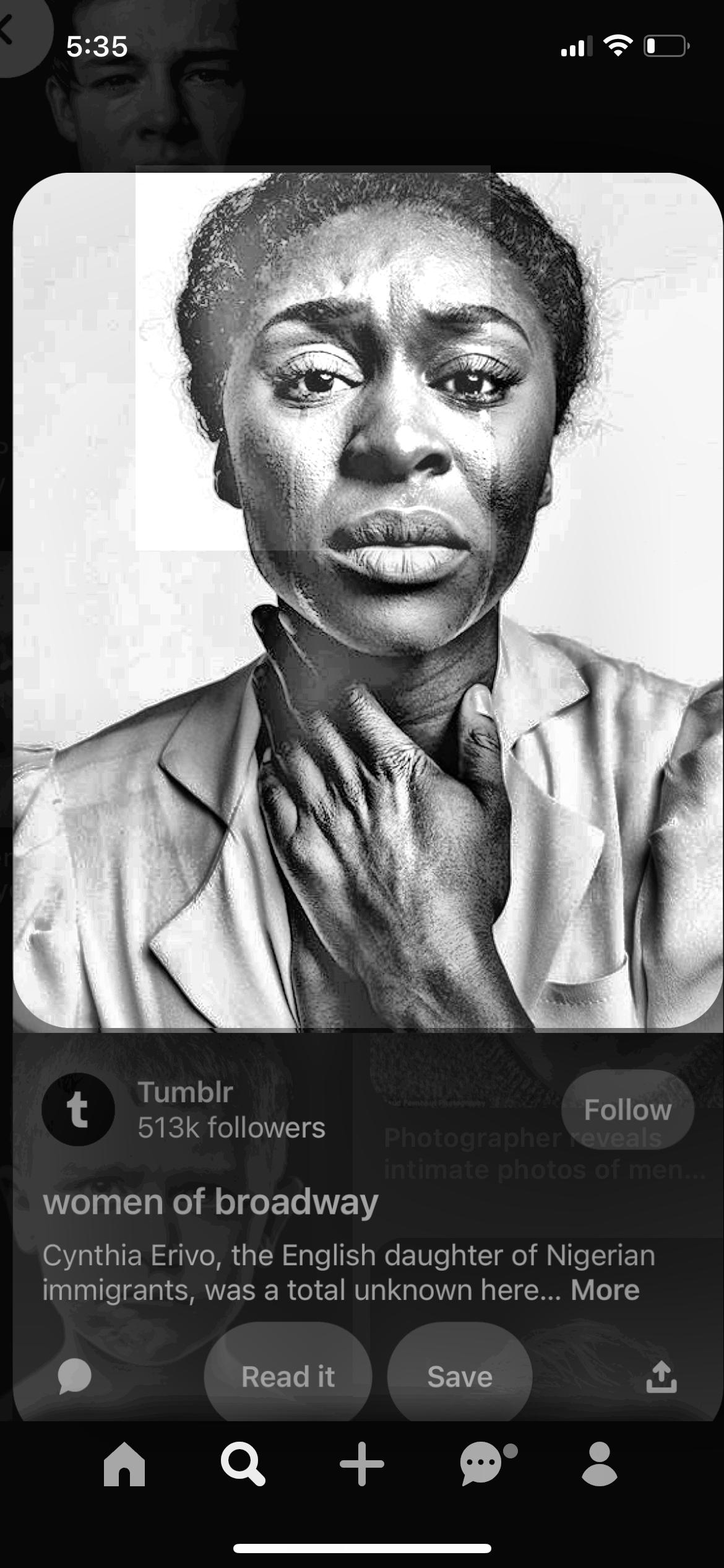sad: (168, 204, 607, 681)
